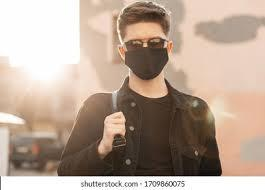mask: (123, 44, 174, 82)
sunglasses: (123, 35, 168, 54)
